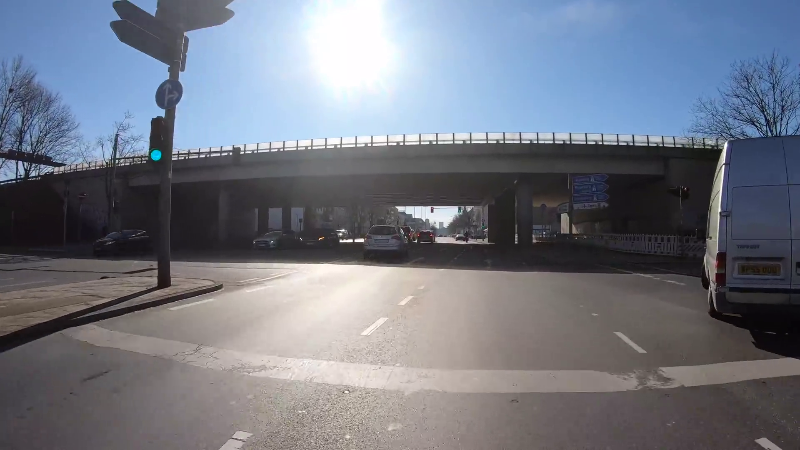Plate: (736, 261, 784, 277), (374, 237, 389, 244)
